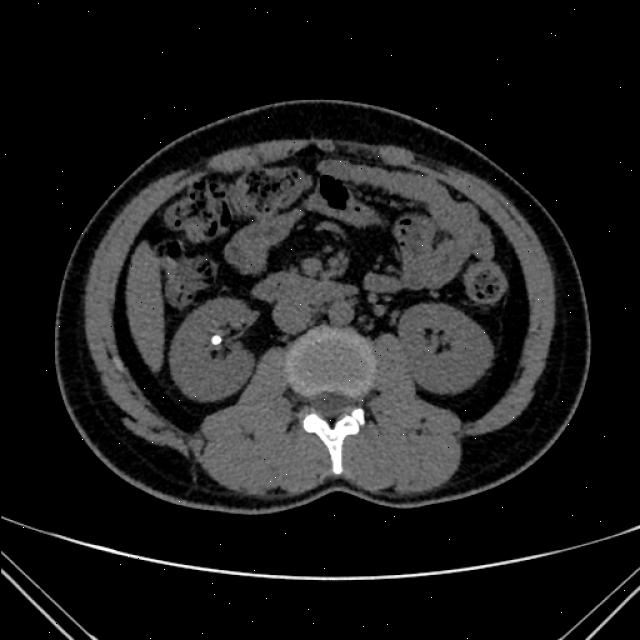kidneystone: (211, 335, 222, 346)
